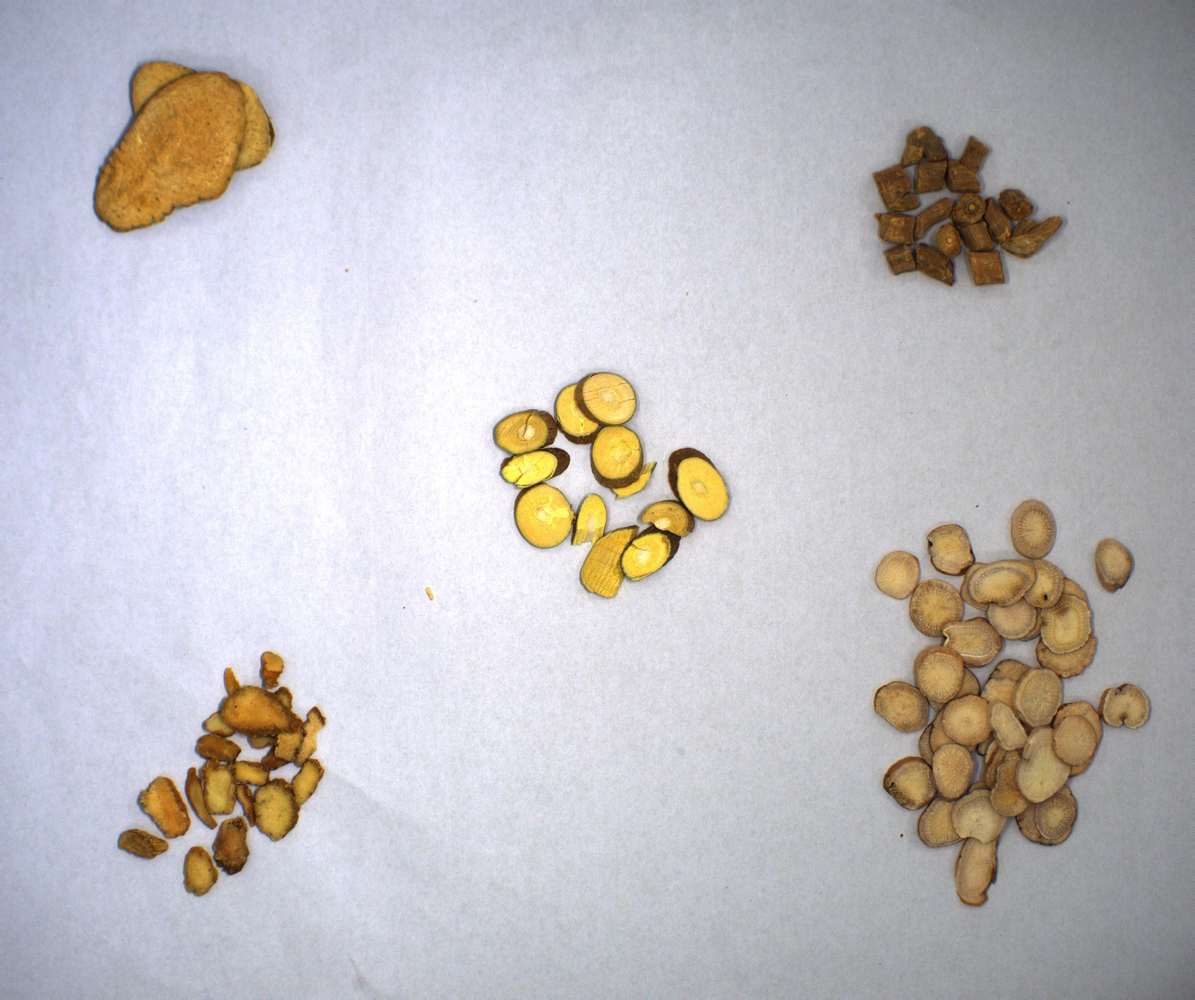baishao: (853, 489, 1164, 924)
niuxi: (859, 109, 1070, 305)
sangzhi: (478, 361, 743, 609)
yuzhu: (108, 643, 335, 906)
zexie: (91, 52, 280, 244)
